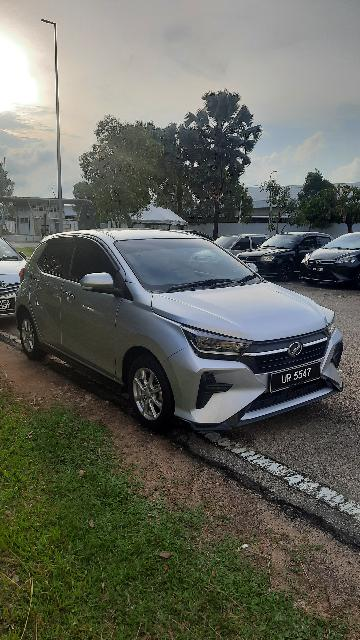License_Plate: (262, 358, 322, 392)
car: (19, 227, 344, 427), (239, 228, 331, 285), (296, 225, 360, 293), (2, 231, 29, 327), (210, 238, 276, 263)
